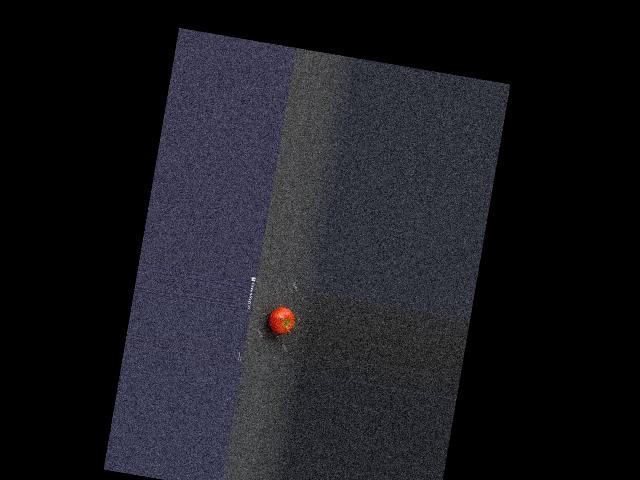tomato: (267, 305, 296, 336)
